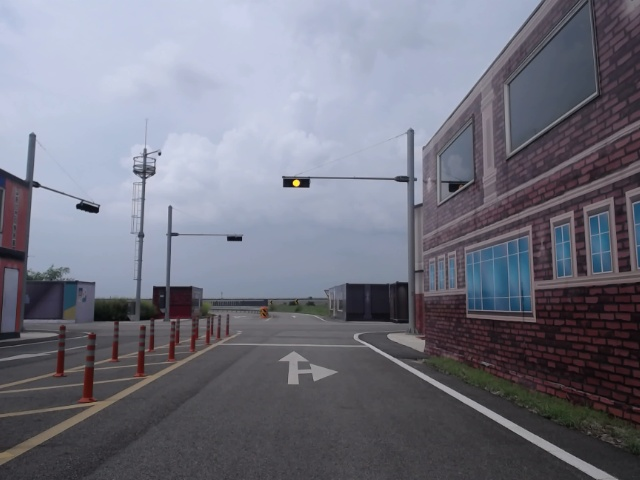orange_3: (282, 176, 310, 188)
